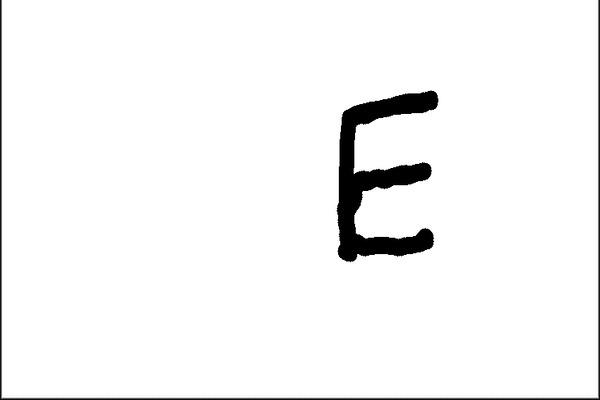E: (330, 87, 445, 264)
